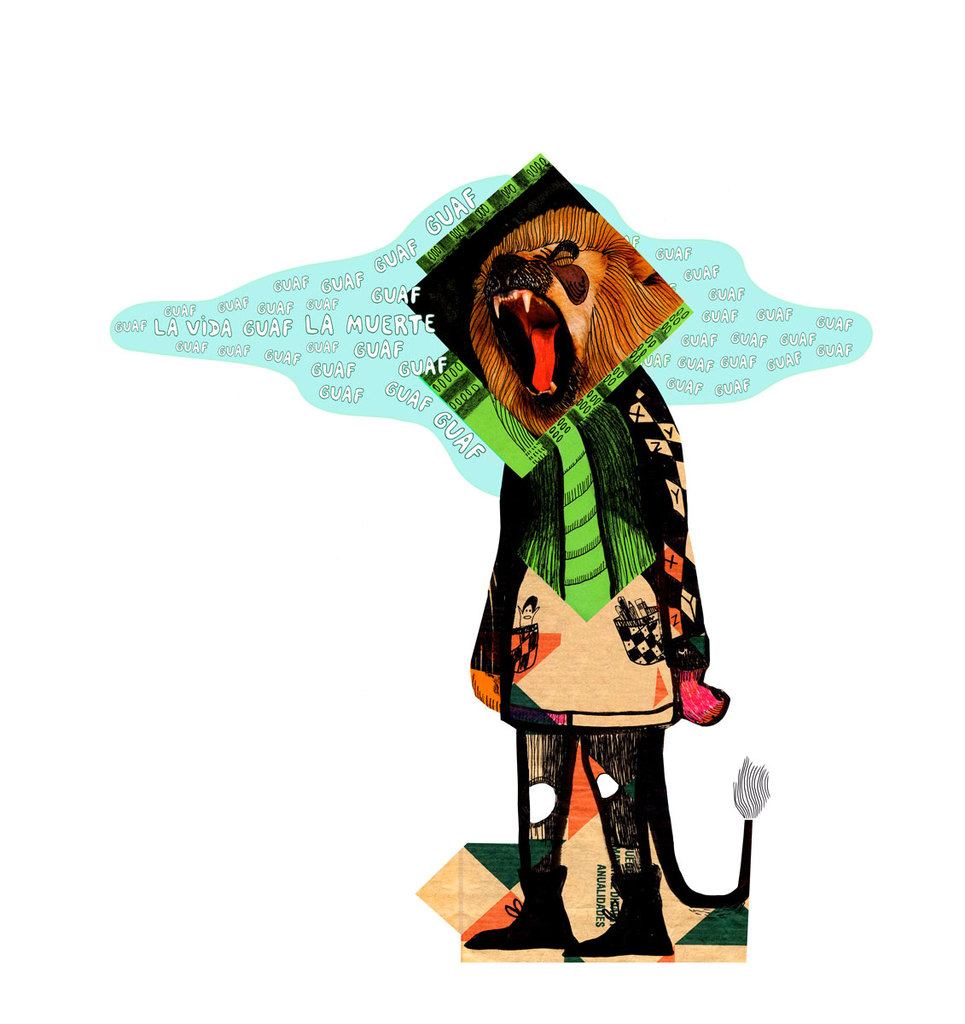Animal: (466, 204, 766, 948)
